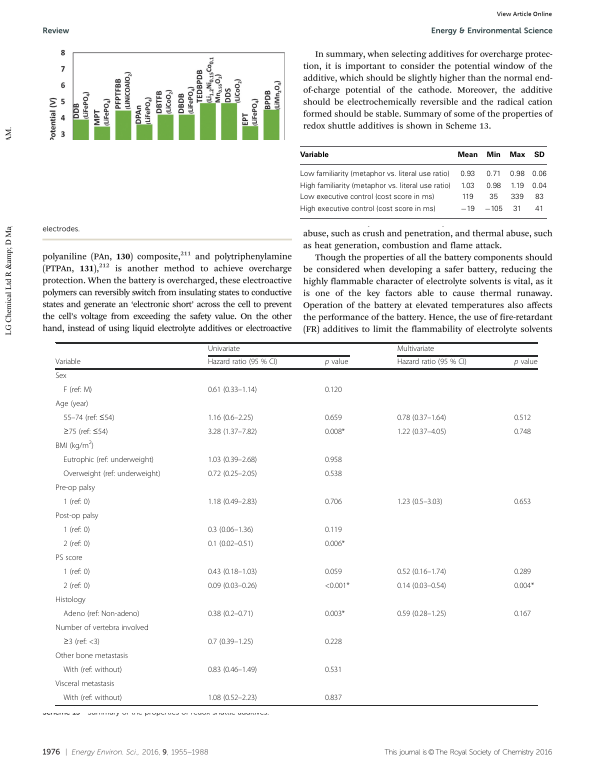borderless: (54, 341, 538, 705), (299, 145, 547, 219)
cell: (298, 182, 451, 191), (298, 170, 450, 179), (298, 205, 436, 214), (298, 193, 435, 202), (62, 469, 161, 479), (55, 623, 149, 633), (62, 455, 155, 465), (62, 609, 140, 619), (55, 651, 129, 661), (396, 358, 468, 368), (207, 358, 278, 368), (62, 665, 123, 675), (62, 693, 123, 703), (55, 679, 115, 689), (62, 413, 115, 423), (207, 385, 258, 395), (396, 413, 447, 423), (207, 427, 258, 437), (396, 427, 447, 437), (207, 455, 258, 465), (207, 469, 258, 479), (207, 497, 258, 507), (207, 567, 258, 577), (396, 567, 447, 577), (207, 581, 258, 591), (396, 581, 447, 591), (396, 609, 447, 619), (207, 665, 258, 675), (207, 693, 258, 703), (207, 413, 254, 423), (62, 427, 109, 437), (396, 497, 443, 507), (207, 525, 254, 535), (207, 539, 254, 549), (207, 609, 254, 619), (207, 637, 254, 647), (55, 440, 95, 451), (55, 511, 99, 521), (55, 483, 96, 493), (62, 637, 101, 647), (396, 345, 435, 354), (55, 399, 89, 409), (62, 385, 93, 395), (55, 595, 86, 605), (207, 345, 241, 354), (62, 497, 91, 507), (62, 525, 91, 535), (62, 539, 91, 549), (62, 567, 91, 577), (62, 581, 91, 591), (55, 553, 83, 563), (324, 581, 351, 591), (55, 358, 81, 368), (324, 358, 349, 368), (513, 358, 538, 368), (298, 151, 329, 159), (324, 427, 346, 437), (324, 539, 346, 549), (513, 581, 535, 591), (324, 609, 346, 619), (324, 385, 343, 395), (324, 413, 343, 423), (513, 413, 532, 423), (513, 427, 532, 437), (324, 455, 343, 465), (324, 469, 343, 479), (324, 497, 343, 507), (513, 497, 532, 507), (324, 525, 343, 535), (324, 567, 343, 577), (513, 567, 532, 577), (513, 609, 532, 619), (324, 637, 343, 647), (324, 665, 343, 675), (324, 693, 343, 703), (483, 205, 503, 214), (456, 151, 478, 159), (508, 170, 525, 179), (459, 170, 475, 179), (485, 170, 501, 179), (531, 170, 547, 179), (459, 182, 475, 191), (485, 182, 501, 191), (531, 182, 547, 191), (459, 205, 475, 214), (508, 151, 525, 159), (509, 182, 524, 191), (509, 193, 524, 202), (485, 151, 501, 159), (460, 193, 474, 202), (55, 371, 67, 381), (533, 151, 545, 159), (488, 193, 498, 202), (534, 193, 544, 202), (512, 205, 522, 214), (534, 205, 544, 214)
